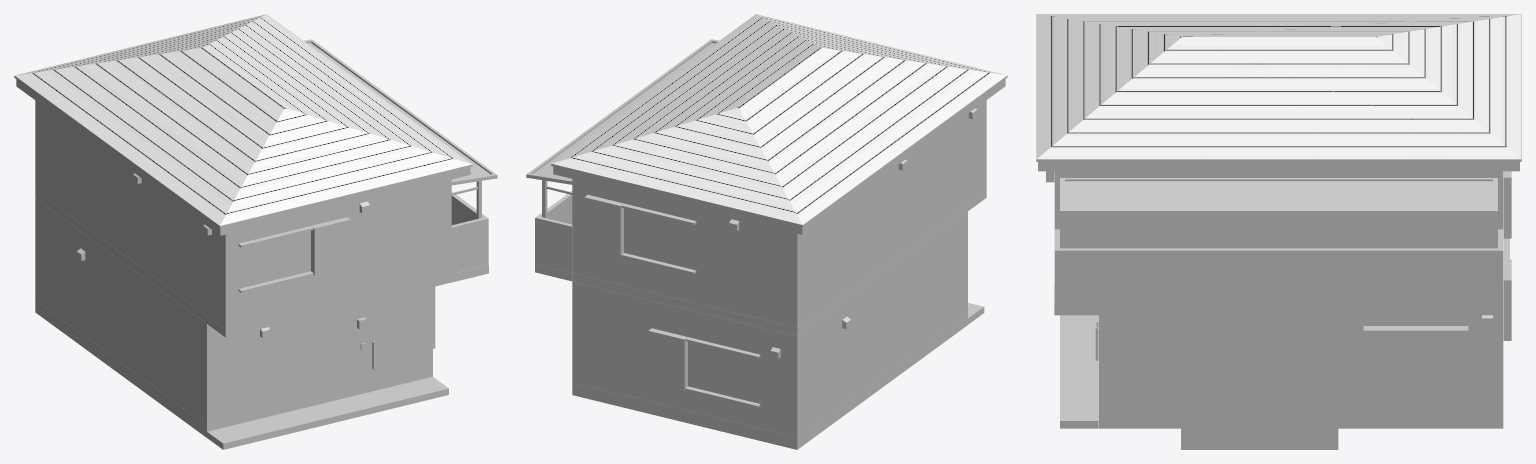
File: House_2021_I.fbx
The picture shows the model from 3 angles, left to right: view 1: azimuth 30°, elevation 25°; view 2: azimuth 150°, elevation 25°; view 3: azimuth 270°, elevation 25°; orthographic projection. The views are drawn at different scales.
Visible parts, largest first — view 1: House_2021_I; view 2: House_2021_I; view 3: House_2021_I.
Boxes of the visible parts, bbox=[...] form: House_2021_I: bbox=[14, 14, 497, 449]; House_2021_I: bbox=[526, 14, 1007, 449]; House_2021_I: bbox=[1036, 14, 1521, 449].
Size of the model in its own units: 713 by 655 by 882.
